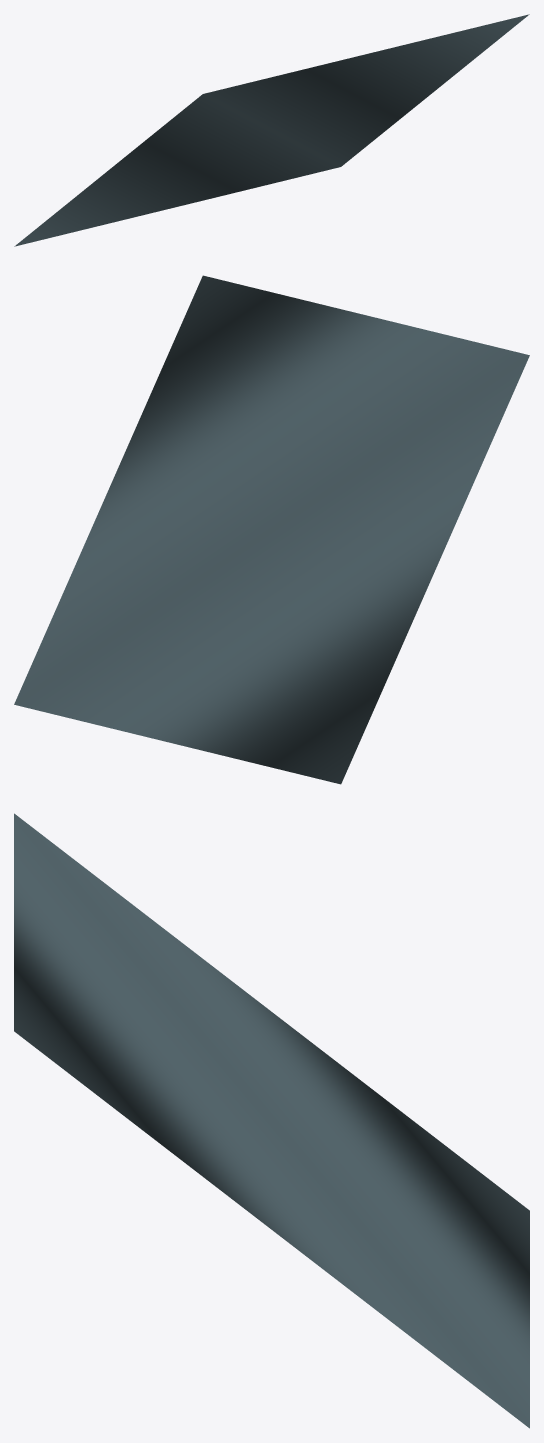
The model's file is FacadeKit_Canopy_LOD2.glb.
3 renders of one model, top to bottom at view 1: azimuth 30°, elevation 25°; view 2: azimuth 150°, elevation 25°; view 3: azimuth 270°, elevation 25°, orthographic. The views are drawn at different scales.
Parts seen in each view (by area): view 1: FacadeKit_Canopy_LOD2; view 2: FacadeKit_Canopy_LOD2; view 3: FacadeKit_Canopy_LOD2.
Part boxes in pixels (<box>): FacadeKit_Canopy_LOD2: <box>14,14,529,246</box>; FacadeKit_Canopy_LOD2: <box>14,275,529,784</box>; FacadeKit_Canopy_LOD2: <box>14,813,529,1428</box>.
Size of the model in its own units: 1 by 0.85 by 1.
